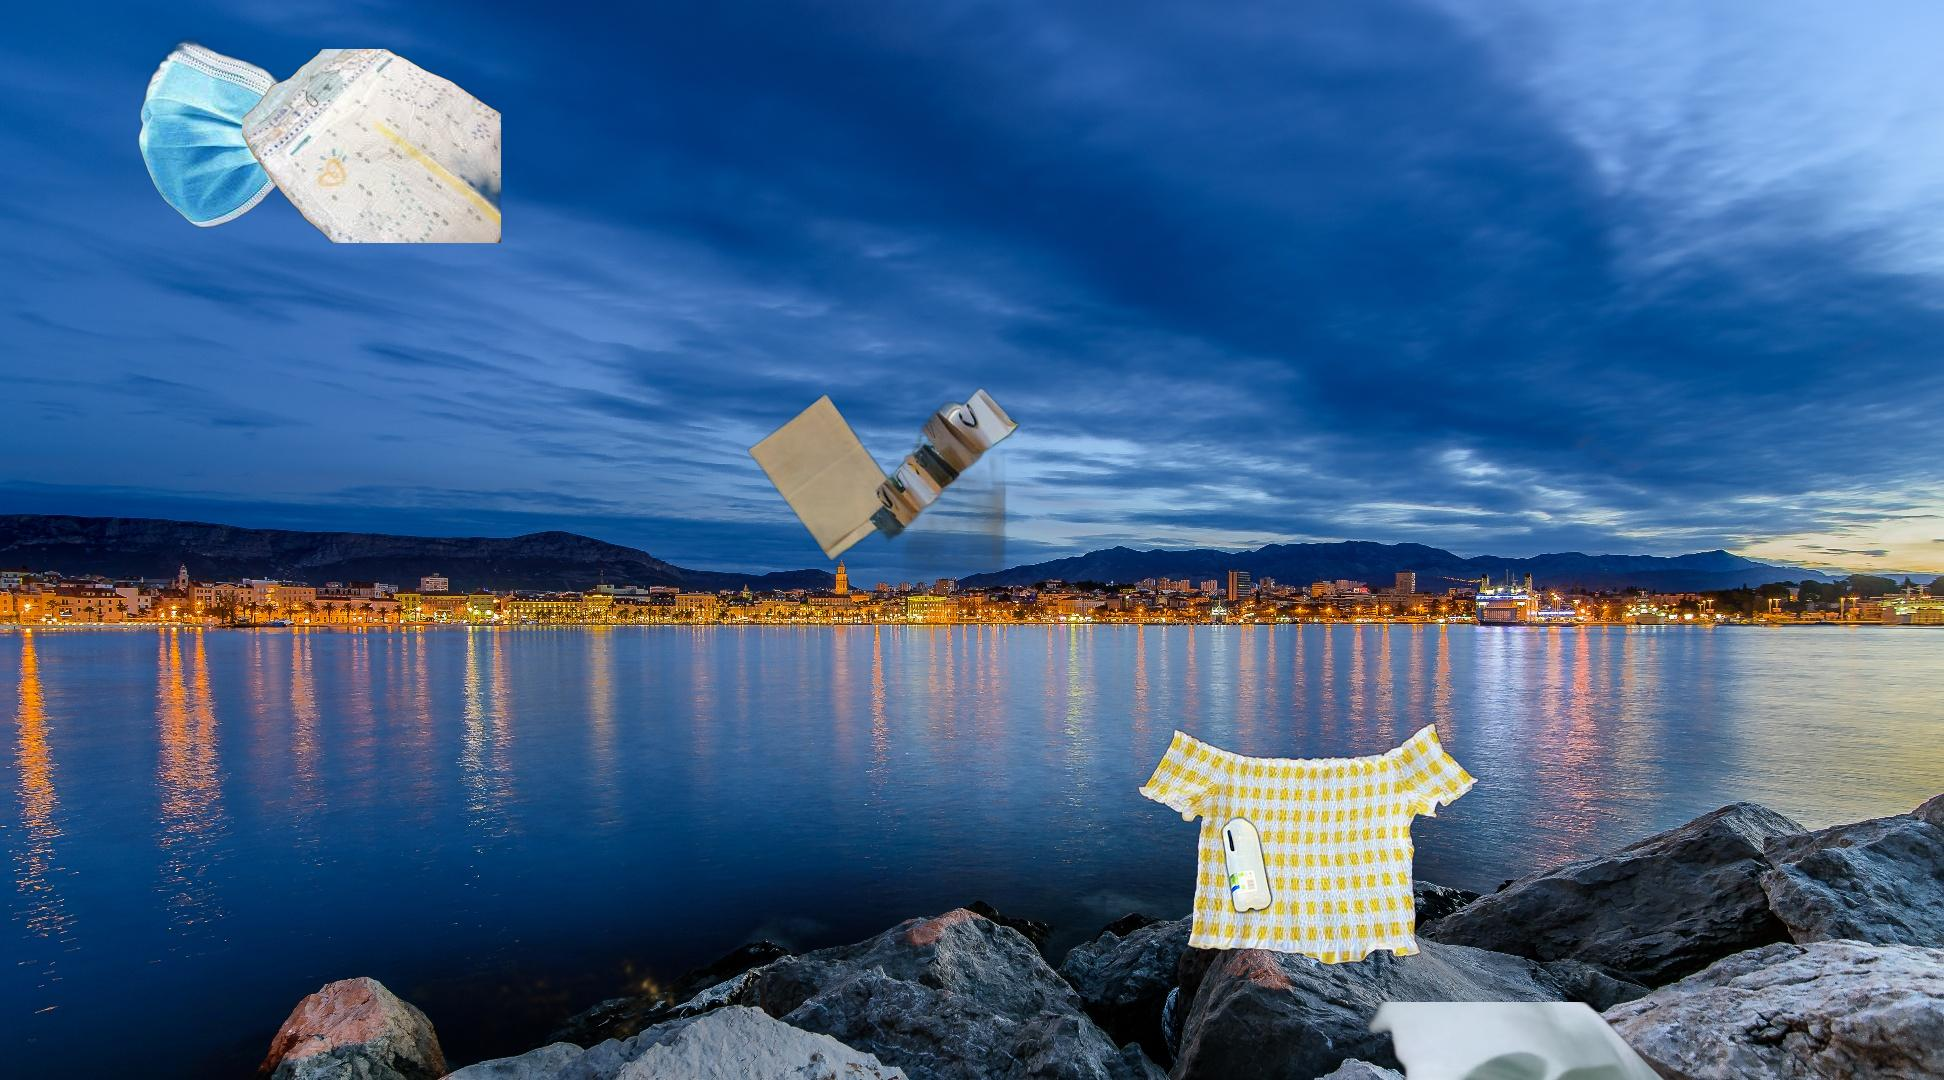clothes: (1136, 718, 1483, 970)
glass: (1363, 1002, 1734, 1080)
paper-bag: (745, 384, 1023, 618)
plastic-bottles: (1218, 813, 1276, 919)
trash: (242, 49, 501, 243), (136, 37, 285, 230)
trashbox-cardboard: (169, 928, 681, 1080)
